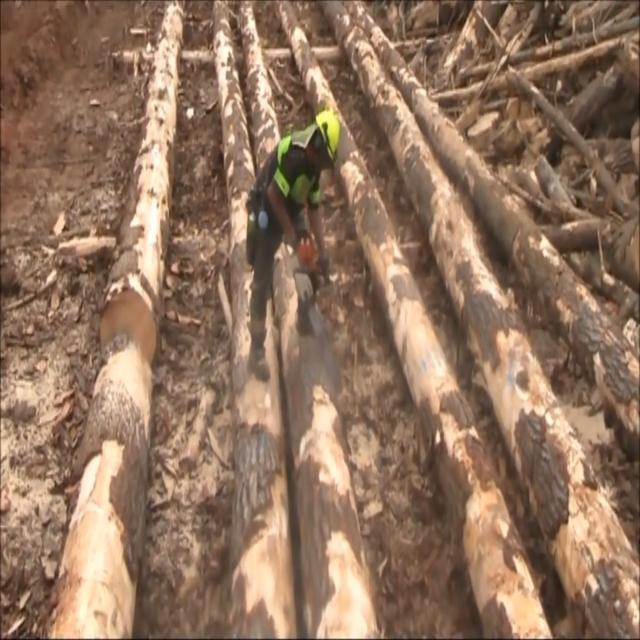Chainsaw: (285, 205, 347, 352)
